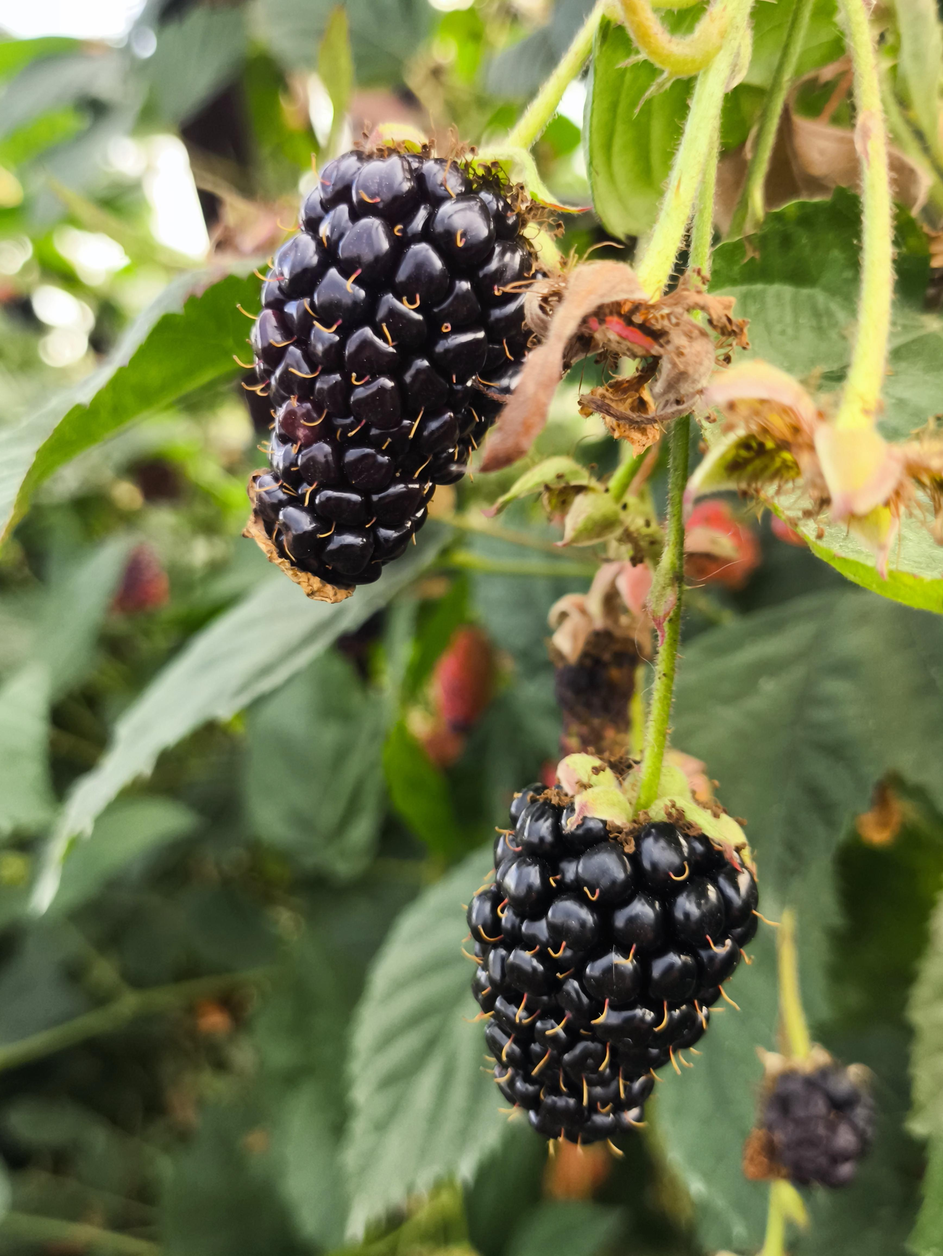maduro: (254, 148, 524, 592), (477, 771, 752, 1139)
